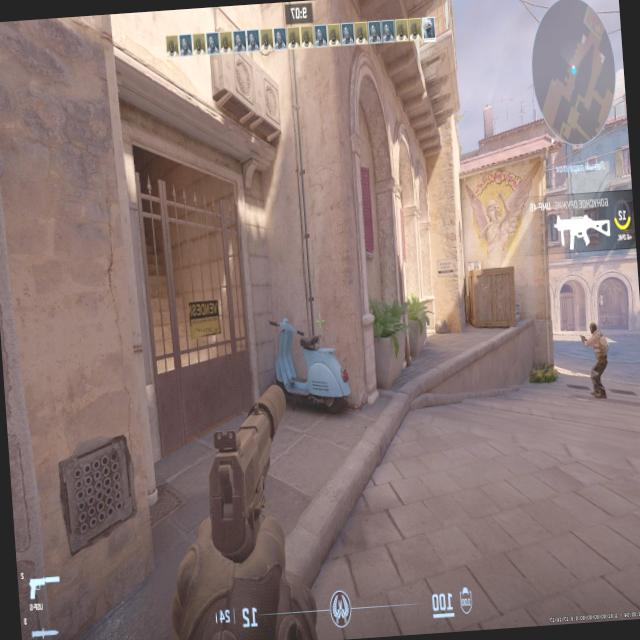T: (586, 324, 604, 391)
T_heat: (592, 323, 598, 336)
